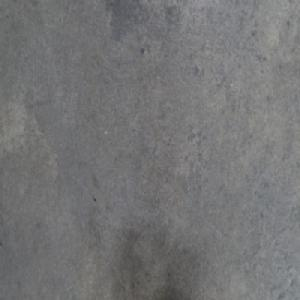AdjustableWrench: (162, 288, 196, 298)
